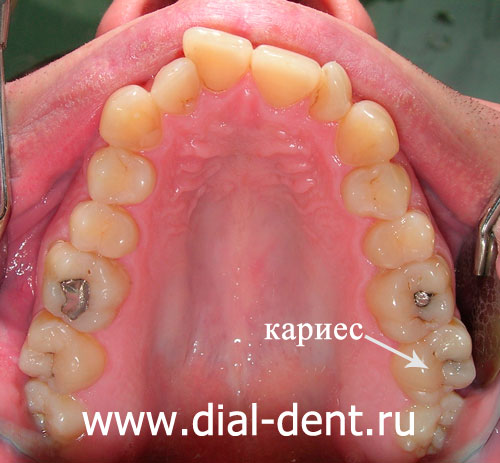UL1BC_healthy: (342, 164, 408, 219)
UL1M_decay: (370, 261, 454, 341)
UL2BC_healthy: (365, 211, 434, 267)
UL2M_decay: (429, 325, 475, 404)
UL3M_decay: (417, 394, 464, 457)
ULCI_healthy: (252, 45, 320, 108)
ULC_healthy: (339, 100, 399, 167)
ULLI_healthy: (316, 61, 350, 121)
UR1BC_healthy: (88, 148, 155, 204)
UR1M_decay: (43, 246, 122, 332)
UR2BC_healthy: (71, 203, 136, 257)
UR2M_decay: (19, 317, 101, 390)
UR3M_decay: (25, 384, 81, 446)
URCI_healthy: (182, 27, 251, 90)
URC_healthy: (100, 84, 160, 152)
URLI_healthy: (154, 58, 199, 110)
